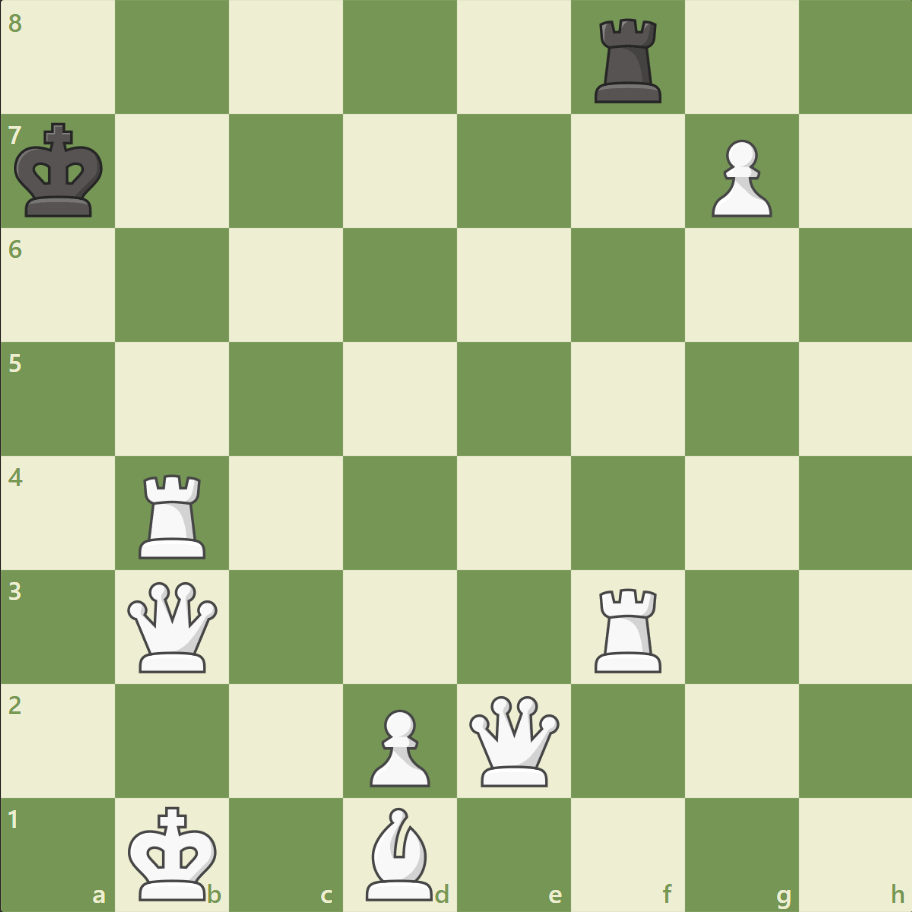B: (358, 801, 442, 904)
K: (124, 798, 224, 906)
P: (701, 132, 776, 223), (361, 700, 435, 791)
Q: (124, 576, 223, 676), (464, 690, 563, 789)
R: (587, 579, 670, 676), (133, 466, 215, 563)
k: (11, 117, 111, 225)
r: (587, 12, 670, 109)
